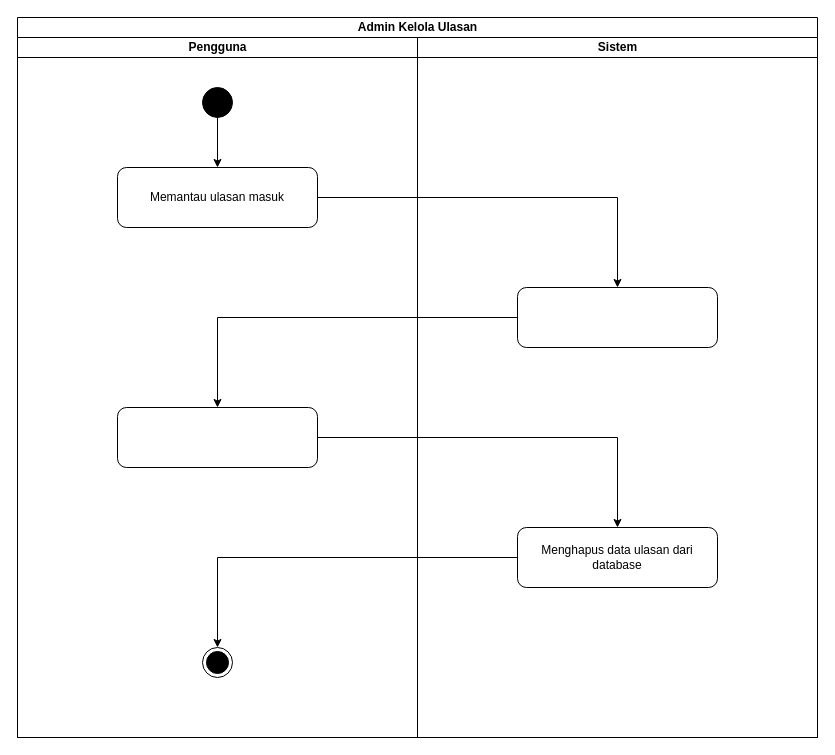
Some shapes in this 835 by 755 pixel diagram are drawn without their labels. The centre of each missing label's shape, as x and y in pixels:
"Menampilkan semua daftar ulasan" belongs at [617,317].
"Menghapus ulasan yang tidak pantas" belongs at [217,437].
